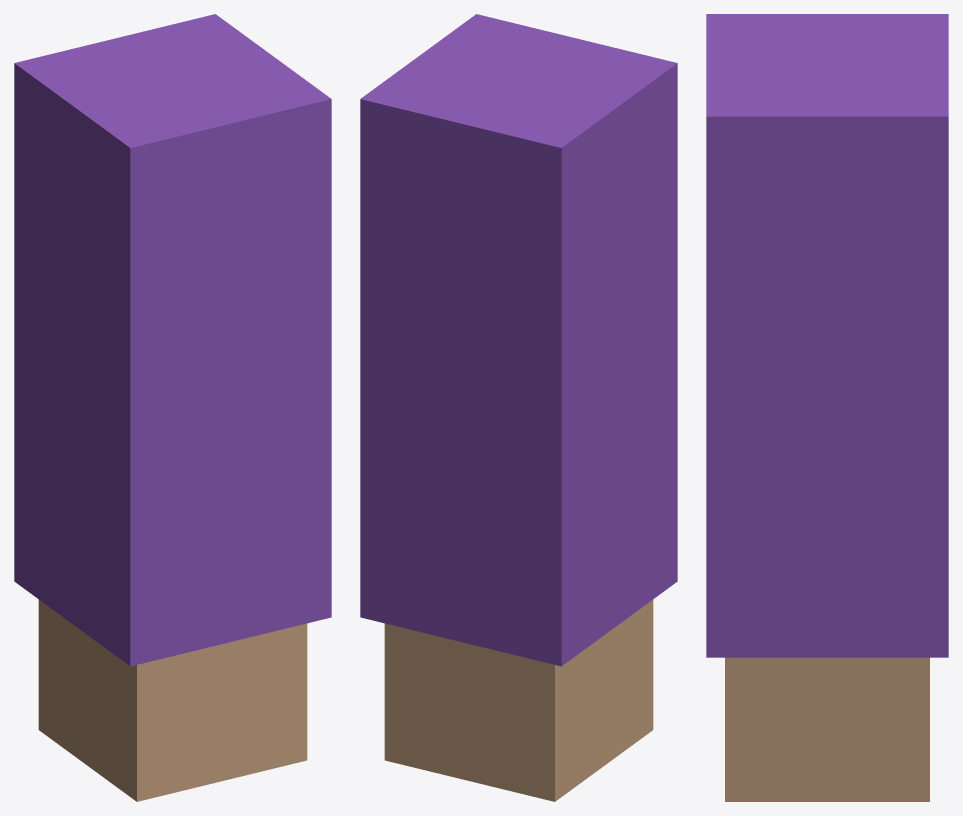
The model's file is player_arm.glb.
3 renders of one model, left to right at view 1: azimuth 30°, elevation 25°; view 2: azimuth 150°, elevation 25°; view 3: azimuth 270°, elevation 25°, orthographic. The views are drawn at different scales.
Visible parts, largest first — view 1: player_arm; view 2: player_arm; view 3: player_arm.
Boxes of the visible parts, <box> form: player_arm: <box>14,14,331,801</box>; player_arm: <box>360,14,677,801</box>; player_arm: <box>706,14,948,801</box>.
Size of the model in its own units: 0.13 by 0.41 by 0.13.
